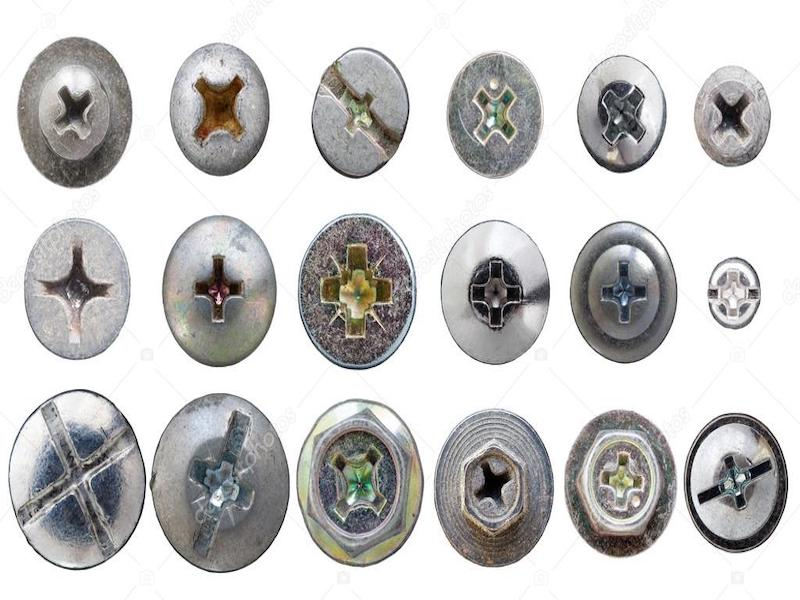screw: (149, 391, 294, 577), (6, 387, 148, 573), (296, 397, 427, 571), (430, 407, 558, 571), (296, 211, 422, 374), (159, 213, 281, 371), (15, 36, 138, 192), (563, 407, 680, 560), (19, 216, 135, 364), (438, 218, 552, 368), (568, 219, 681, 367), (680, 412, 792, 556), (168, 41, 272, 180), (310, 46, 413, 184), (443, 48, 546, 182), (575, 54, 670, 176), (691, 64, 773, 172), (706, 256, 764, 331)
